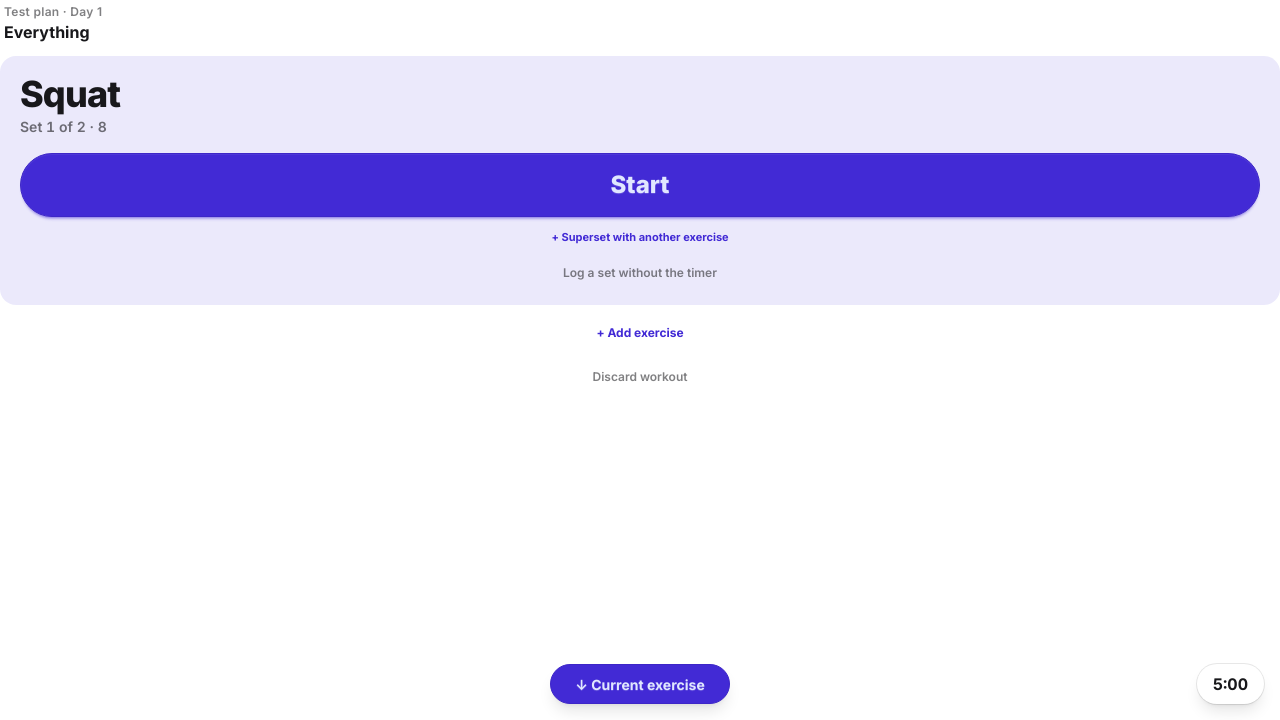
Test: active workout › saves a set on Finish and offers the rest before the next one
Click the button "Start": coordinates (640, 185) [20,153,1260,217]
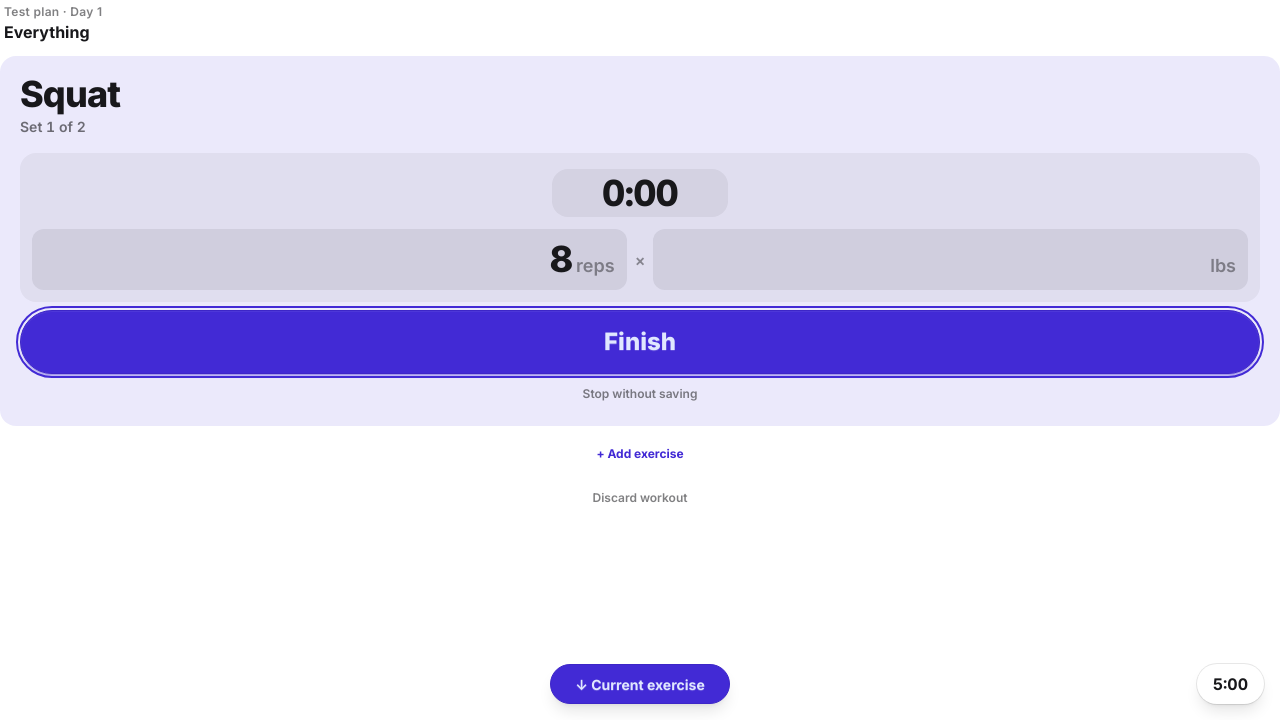
Click the button "Finish": coordinates (640, 342) [20,310,1260,374]
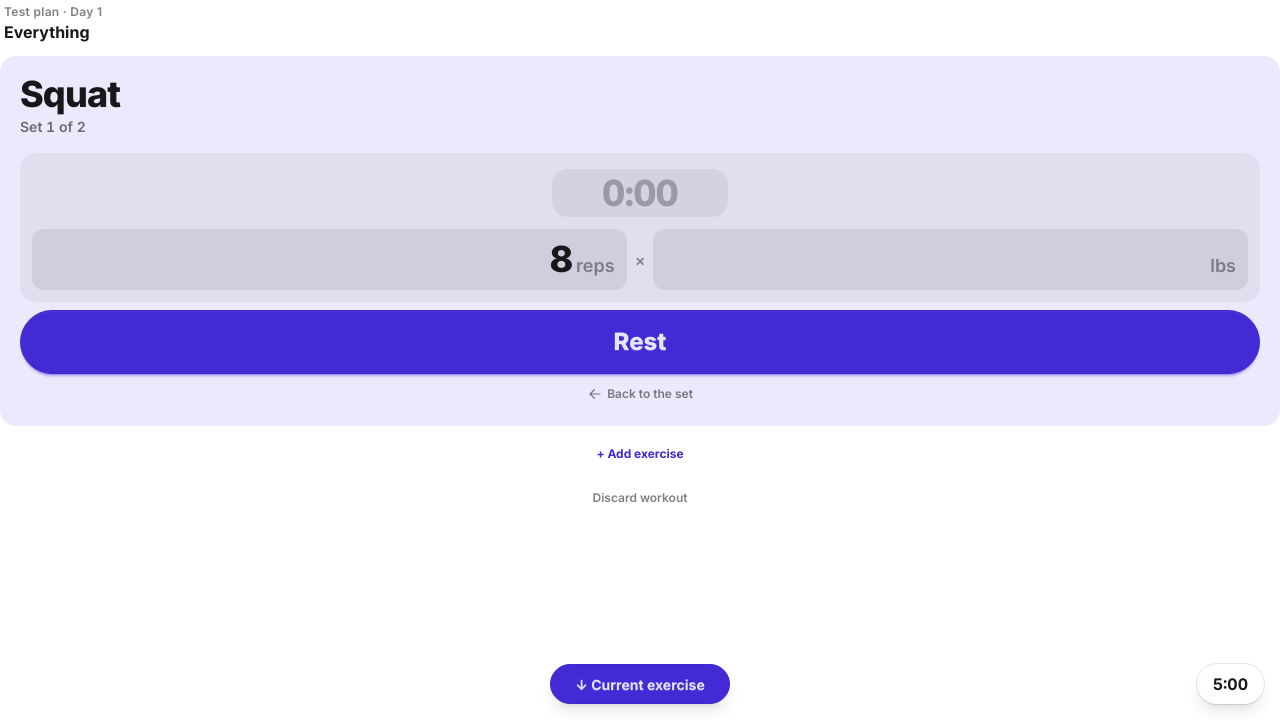
Check: the button "Rest" is shown
Click the button "Rest": coordinates (640, 342) [20,310,1260,374]
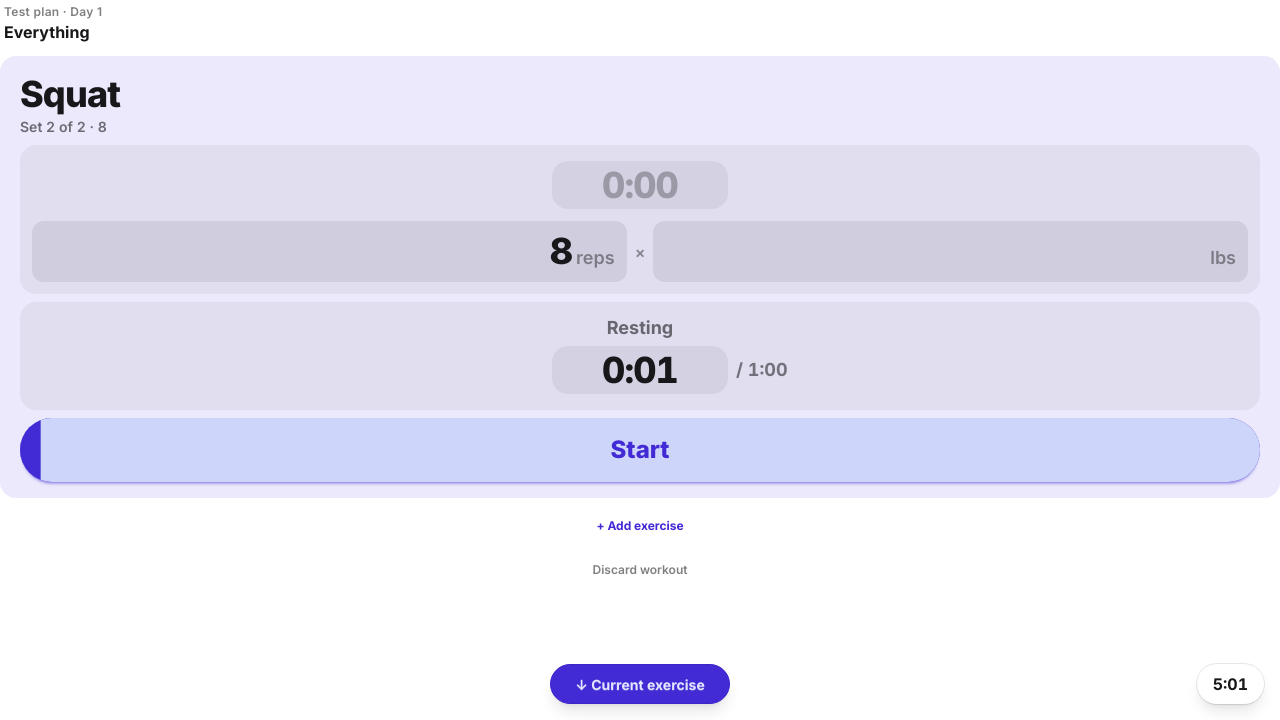
Check: the text "Resting" is shown, box [607,314,673,342]
